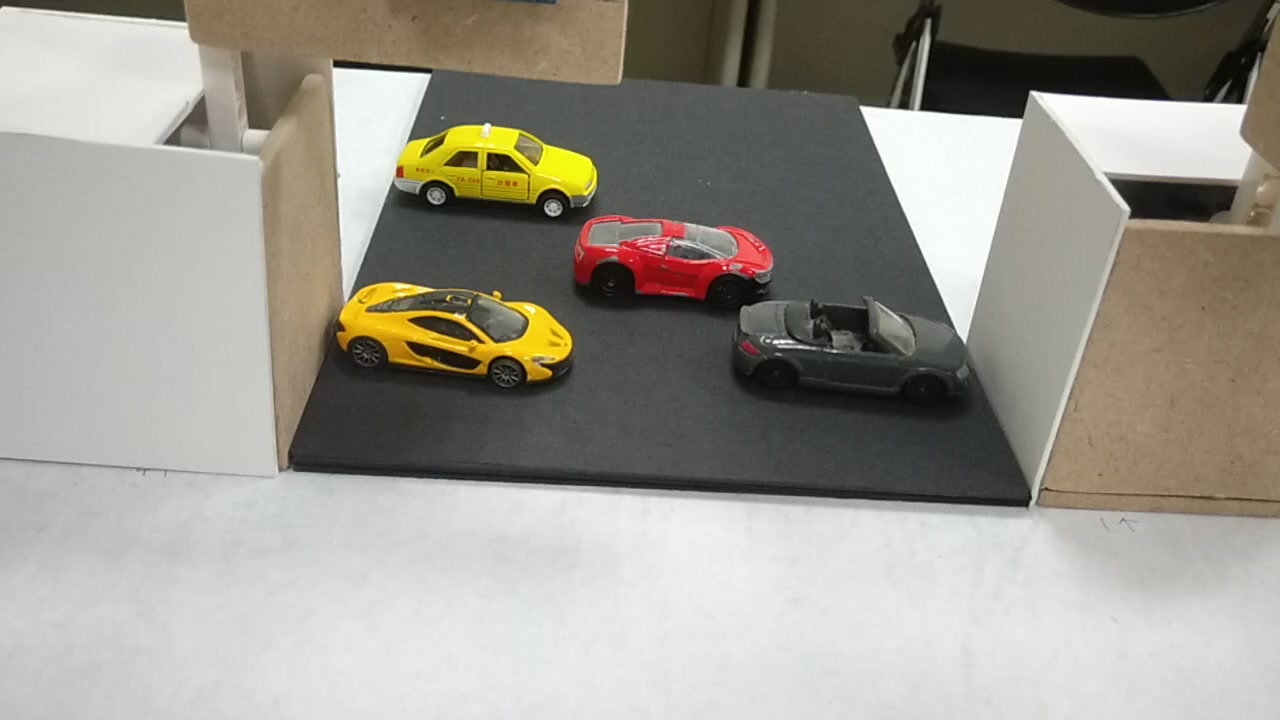car: (334, 276, 581, 396), (737, 304, 972, 415), (399, 118, 597, 221), (576, 207, 773, 308)
